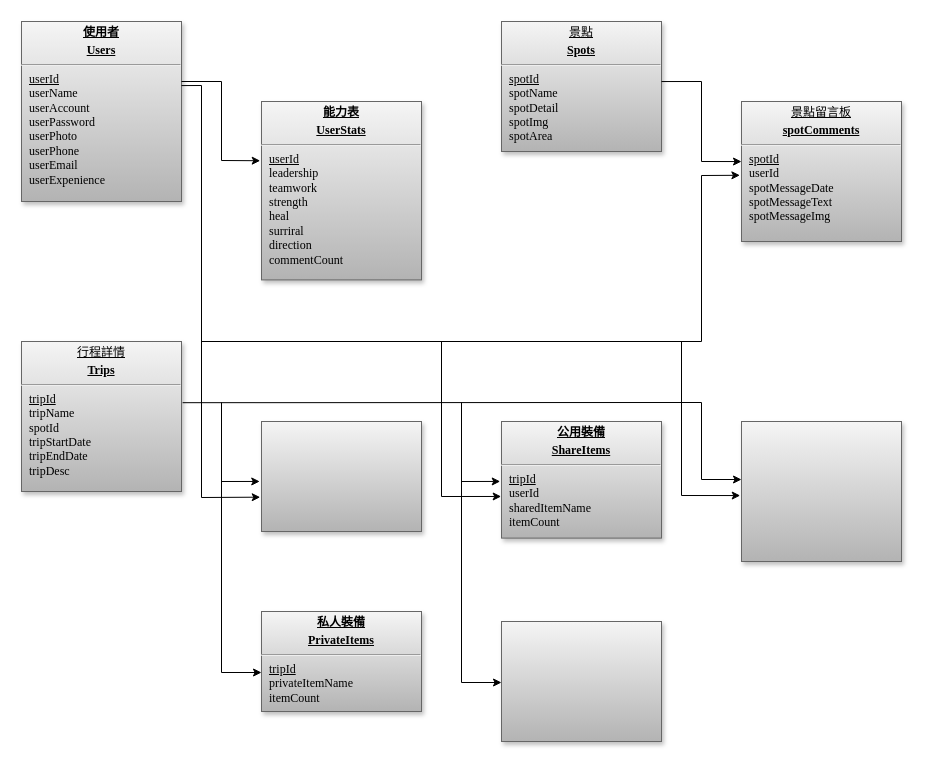
The diagram is 925 pixels wide and 766 high, and some of its shapes have lost their labels. Each missing label, with the centre of its shape:
行程成員 TripMembers tripId userId positionState: (x=342, y=477)
行程管理聊天室 tripChatBoard tripId userId chatTime chatMessage chatPhoto: (x=822, y=492)
行程表 schedules tripId day startTime activity: (x=582, y=682)
